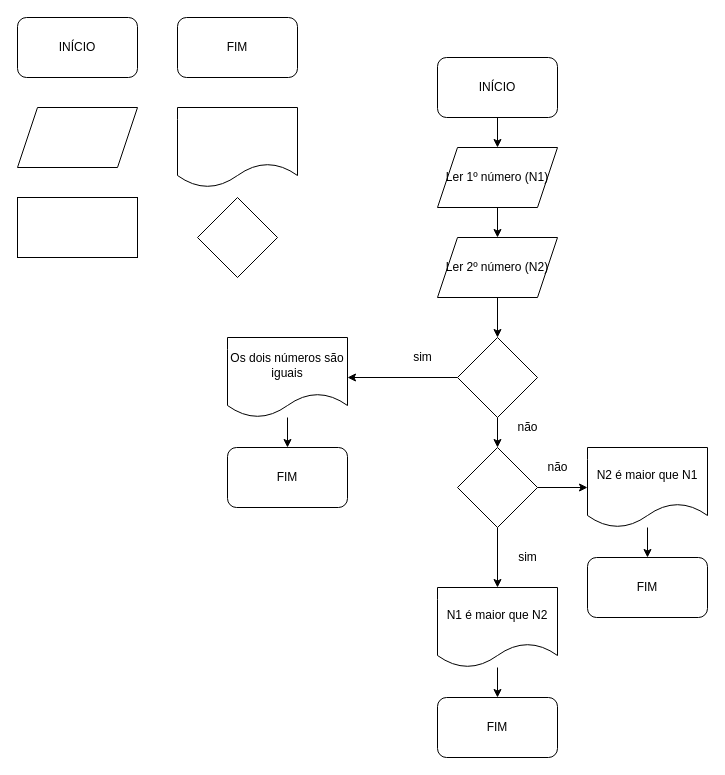
Image size: 725x775. Some labels were removed from this diagram. The centre of each missing label's shape, as x and y in pixels:
"DECISÃO" goes at point 237,237.
"ENTRADA" goes at point 77,137.
"N1 = N2" goes at point 497,377.
"N1 > N2?" goes at point 497,487.
"PROCESSAMENTO" goes at point 77,227.
"SAÍDA" goes at point 237,147.
